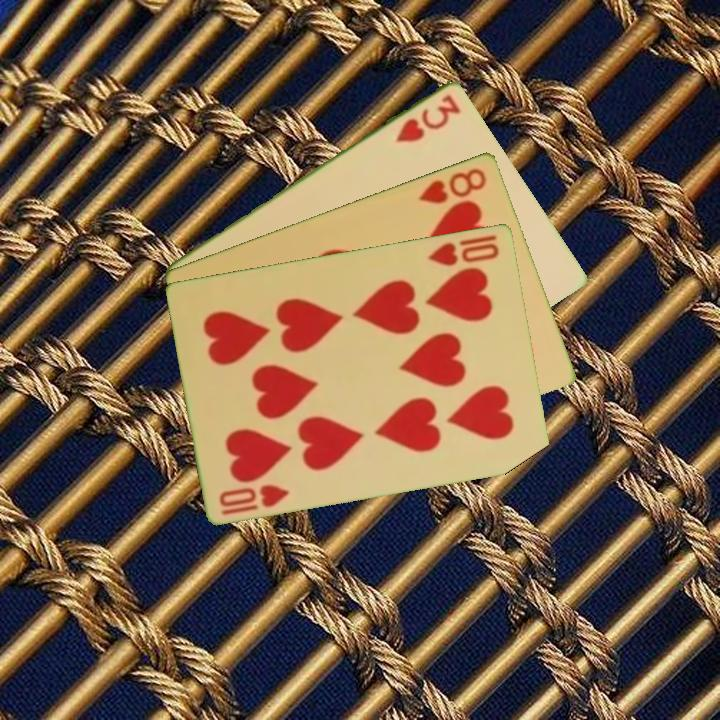10h: (425, 231, 502, 269), (216, 480, 292, 517)
3h: (392, 90, 464, 145)
8h: (415, 164, 490, 206)
